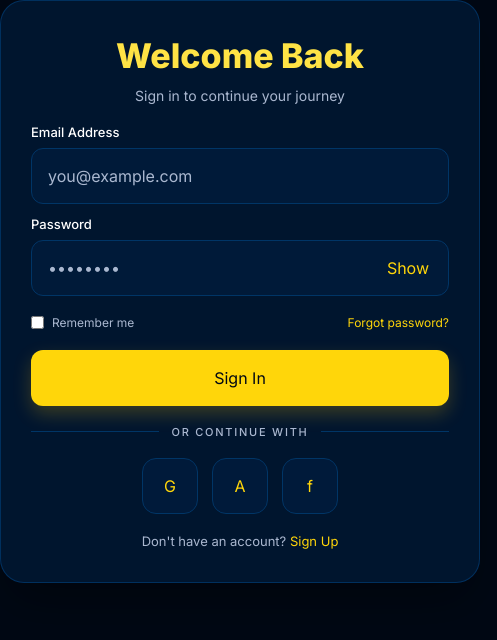
it: SignInForm › valida campos obrigatórios e alterna visibilidade da senha
The width and height of the screenshot is (497, 640).
Click the button with aria-label "Show password" at (408, 268), box [377,250,439,286]
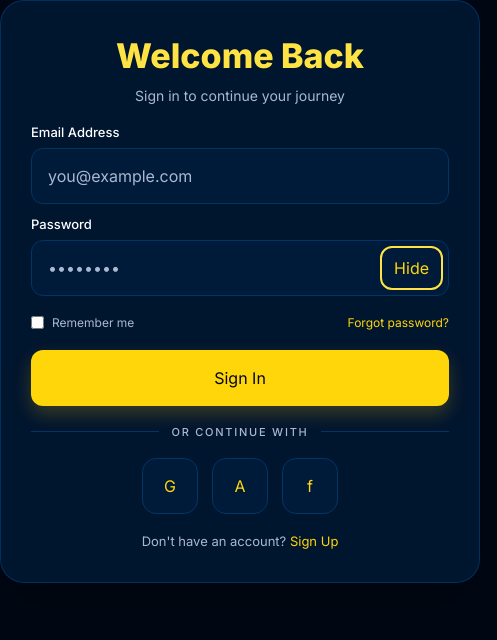
Click the button "Sign In" at (240, 378), box [31,350,449,406]
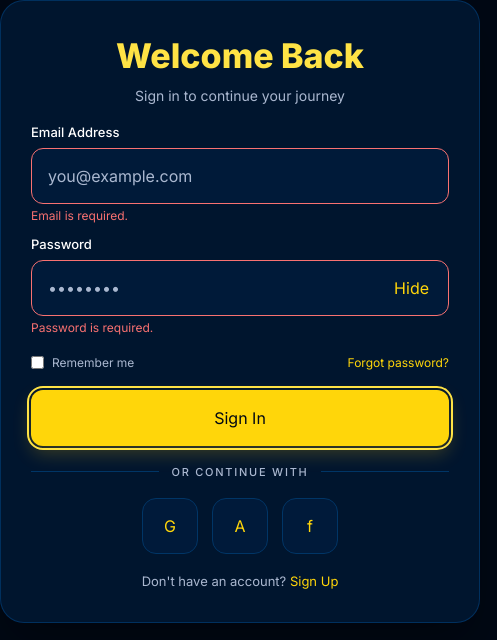
Result: the text "Email is required." is shown at [31,208,128,222]
Result: the text "Password is required." is shown at [31,320,153,334]
